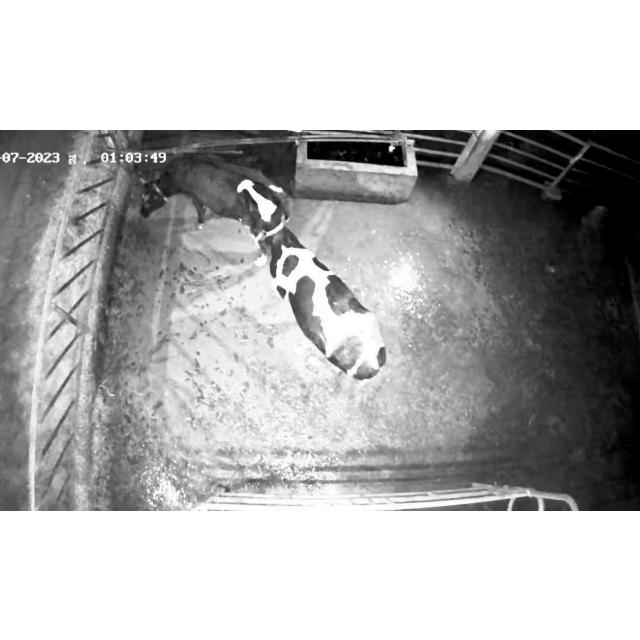propping: (216, 164, 300, 248)
